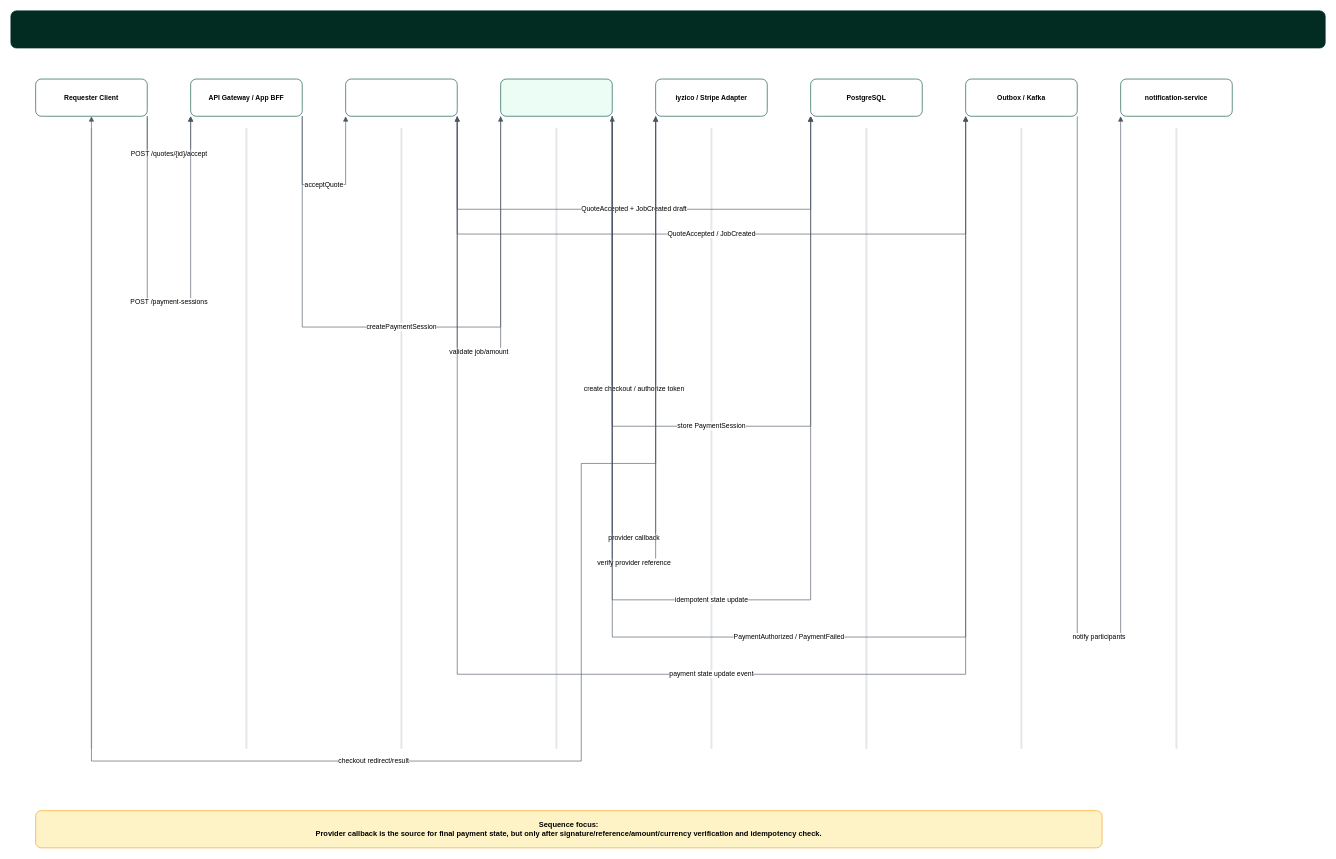
The diagram is 1336 pixels wide and 859 high, and some of its shapes have lost their labels. The centre of each missing label's shape, as x and y in pixels:
"marketplace-service" belongs at [401,97].
"payment-service" belongs at [556,97].
"Viaverse Payment / Wallet — Sequence Diagram" belongs at [667,29].
